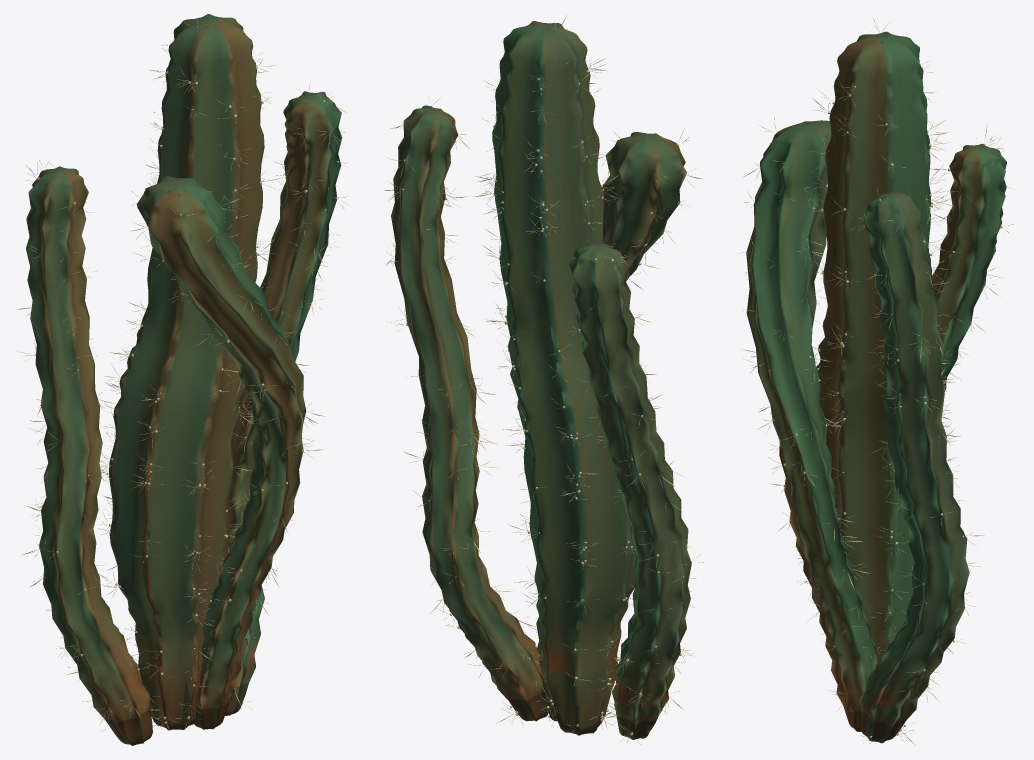
File: cactus-2.glb
3 renders of one model, left to right at view 1: azimuth 30°, elevation 25°; view 2: azimuth 150°, elevation 25°; view 3: azimuth 270°, elevation 25°, orthographic.
Parts seen in each view (by area): view 1: ch1.cactus-2.001; view 2: ch1.cactus-2.001; view 3: ch1.cactus-2.001.
Part boxes in pixels (x1=…): ch1.cactus-2.001: x1=17, y1=14, x2=351, y2=745; ch1.cactus-2.001: x1=384, y1=15, x2=703, y2=744; ch1.cactus-2.001: x1=737, y1=18, x2=1014, y2=745.
Size of the model in its own units: 0.7775 by 1.68 by 0.6108.
Materials: 2 (1 with a texture image).
